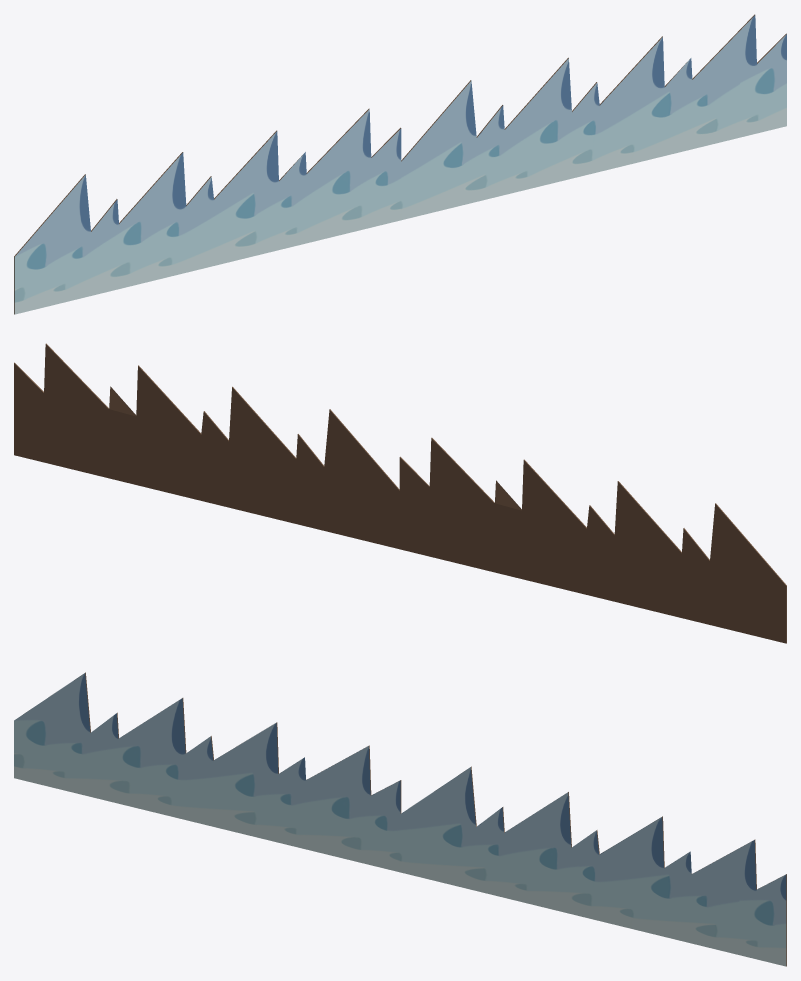
The model's file is Model_LowPoly_Waves.fbx.
3 renders of one model, top to bottom at view 1: azimuth 30°, elevation 25°; view 2: azimuth 150°, elevation 25°; view 3: azimuth 330°, elevation 25°, orthographic.
Visible parts, largest first — view 1: Waves3; view 2: Waves3; view 3: Waves3.
Boxes of the visible parts, box(x1,y1,x2,y2) form: Waves3: box(14, 14, 786, 314); Waves3: box(14, 343, 786, 643); Waves3: box(14, 672, 786, 966).
Bounding box in the file's own units: 56.96 × 8.65 × 0.0835.
Materials: 1 (1 with a texture image).
